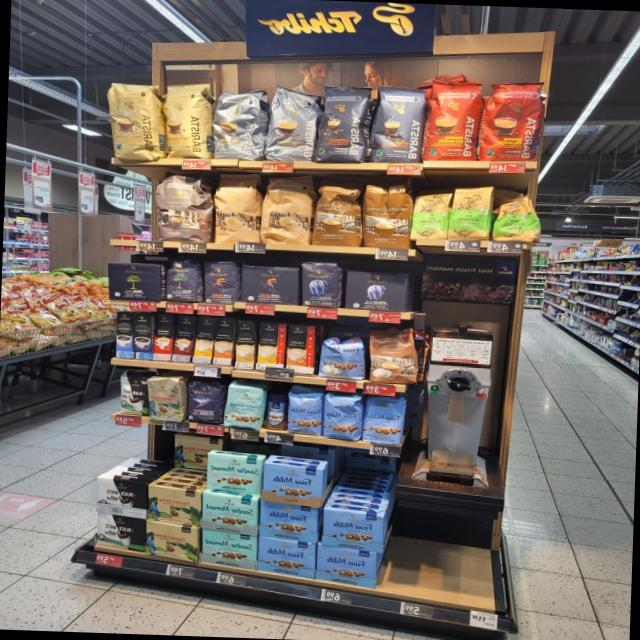AB Bohne: (300, 259, 341, 309)
AB Gemahlen: (344, 270, 410, 312)
Athiopien Bohne: (492, 192, 537, 242)
Athiopien Gemahlen: (449, 184, 493, 240), (412, 189, 452, 240)
BM Bohne: (163, 256, 201, 302)
BM Gemahlen: (106, 261, 162, 300)
BW Bohne: (116, 368, 148, 416)
BW Gemahlen: (94, 475, 147, 518), (92, 511, 145, 552)
Barista CB: (102, 82, 160, 161), (161, 80, 210, 160)
Barista CC: (264, 85, 319, 161)
Barista Espresso: (369, 84, 425, 163), (316, 83, 369, 162), (212, 84, 264, 160)
Barista Kolumbien: (478, 78, 544, 162), (421, 78, 483, 162)
C Fino Bohne: (185, 380, 223, 424)
CC Mild: (258, 172, 312, 245), (212, 171, 260, 244)
CC Vollmundig: (368, 324, 418, 384)
CC Vollmundig 36 Pads: (362, 178, 413, 248), (311, 180, 361, 247)
Colombia BB Bohne: (145, 374, 184, 422)
Colombia BB Gemahlen: (146, 482, 201, 526), (144, 519, 197, 563)
Espresso Aromatisch: (151, 172, 211, 242)
FM 36 Pads: (318, 331, 366, 380)
FM Bohne: (361, 396, 405, 445), (322, 394, 361, 441), (286, 391, 322, 435)
FM Gemahlen: (314, 541, 377, 590), (259, 460, 323, 508), (321, 506, 384, 552), (255, 534, 315, 579), (257, 498, 317, 543)
FM Instant: (262, 390, 288, 430)
LG Bohne: (203, 259, 239, 302)
LG Gemahlen: (238, 263, 298, 304)
SM Bohne: (222, 384, 266, 430)
SM Gemahlen: (200, 491, 257, 536), (199, 528, 257, 570), (204, 452, 262, 494)
Simo CCMild: (256, 322, 286, 369)
Simo CCMild bigpack: (191, 315, 215, 364)
Simo CCVollmundig: (286, 323, 316, 372)
Simo CCVollmundig bigpack: (212, 318, 234, 366)
Simo Decaff: (234, 320, 255, 368)
Simo Es Brazil: (153, 312, 173, 360)
Simo Es Caramel: (171, 314, 195, 361)
Simo Es Kraft: (133, 312, 152, 360)
Simo Es Vanilla: (114, 311, 134, 358)
